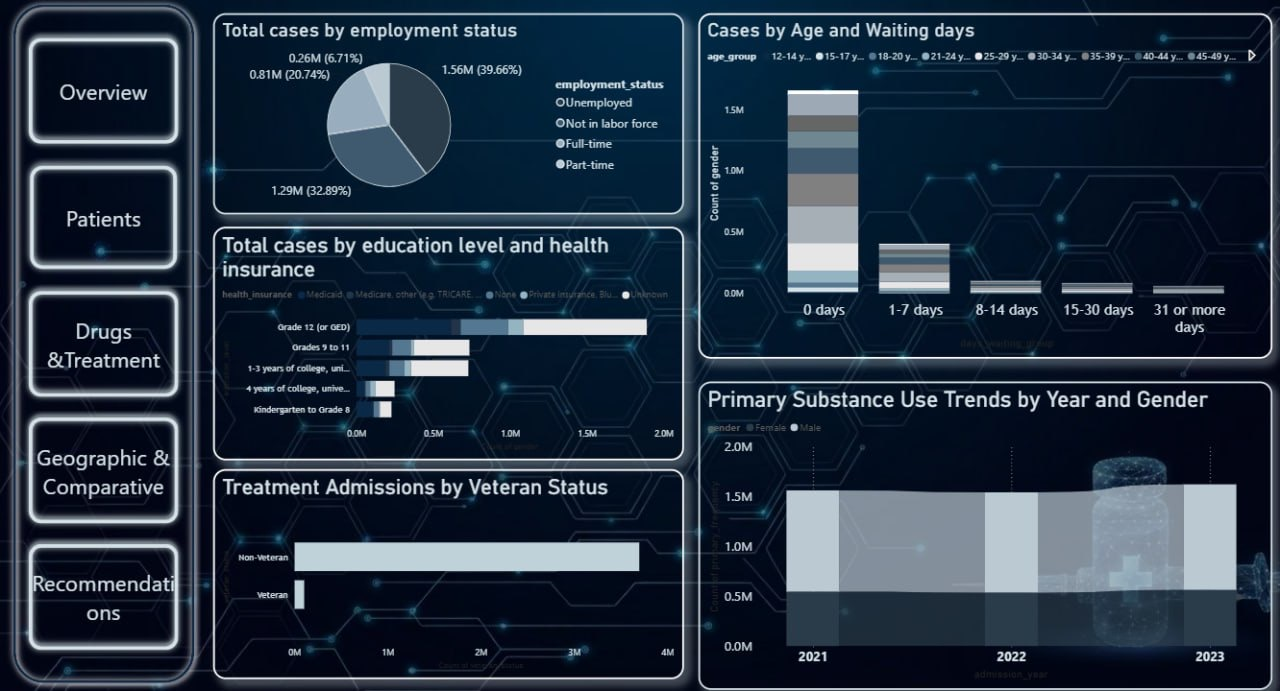

The dashboard page shown, as its layout file describes it:
{"tool":"powerbi","page":{"name":" Patients","canvas":[1750,960],"ordinal":1},"visuals":[{"type":"shape","box":[17.9,3.3,264.1,940.8],"z":0},{"type":"pageNavigator","box":[39.1,48.9,221.7,851.1],"z":1000},{"type":"ribbonChart","title":"Primary Substance Use Trends by Year and Gender","fields":{"Category":["teds_a_decoded_view.admission_year"],"Series":["teds_a_decoded_view.gender"],"Y":["CountNonNull(teds_a_decoded_view.primary_frequency)"]},"box":[957.1,525,779.4,419],"z":2000},{"type":"pieChart","title":"Total cases by employment status","fields":{"Category":["teds_a_decoded_view.employment_status"],"Y":["CountNonNull(teds_a_decoded_view.dsm_diagnosis)"]},"box":[298.4,24.5,639.1,273.9],"z":3000},{"type":"barChart","title":"Total cases by education level and health insurance","fields":{"Category":["teds_a_decoded_view.education_level"],"Series":["teds_a_decoded_view.health_insurance"],"Y":["CountNonNull(teds_a_decoded_view.gender)"]},"box":[298.4,314.7,639.1,317.9],"z":4000},{"type":"lineStackedColumnComboChart","title":"Cases by Age and Waiting days","fields":{"Category":["teds_a_decoded_view.days_waiting_group"],"Series":["teds_a_decoded_view.age_group"],"Y":["CountNonNull(teds_a_decoded_view.gender)"]},"box":[957.1,24.5,779.4,469.6],"z":5001},{"type":"barChart","title":"Treatment Admissions by Veteran Status","fields":{"Category":["teds_a_decoded_view.veteran_status"],"Y":["CountNonNull(teds_a_decoded_view.veteran_status)"]},"box":[298.4,644,639.1,285.3],"z":5002}]}

Visuals, with their boxes in screenshot pixels (x1, y1, x2, y2), scaled from the page's 1750x960 canvas onto the 1280x691 screenshot:
shape: <region>13, 2, 206, 680</region>
pageNavigator: <region>29, 35, 191, 648</region>
"Primary Substance Use Trends by Year and Gender" ribbonChart: <region>700, 378, 1270, 679</region>
"Total cases by employment status" pieChart: <region>218, 18, 686, 215</region>
"Total cases by education level and health insurance" barChart: <region>218, 227, 686, 455</region>
"Cases by Age and Waiting days" lineStackedColumnComboChart: <region>700, 18, 1270, 356</region>
"Treatment Admissions by Veteran Status" barChart: <region>218, 464, 686, 669</region>
